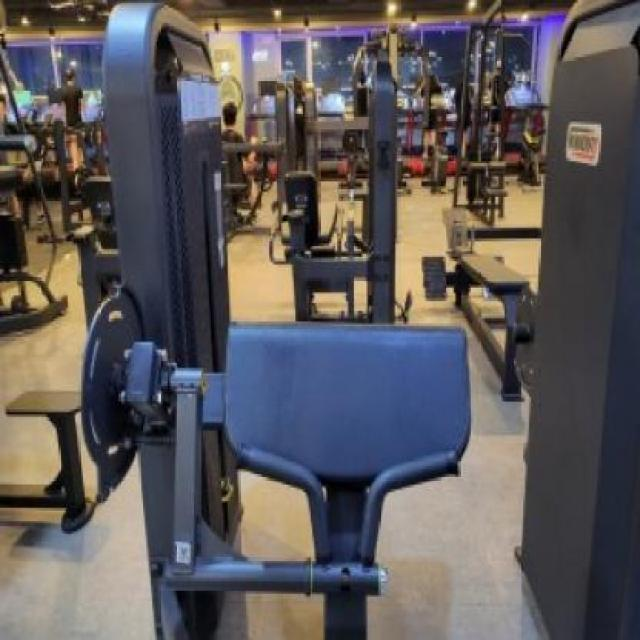arm curl machine: (82, 278, 470, 640)
